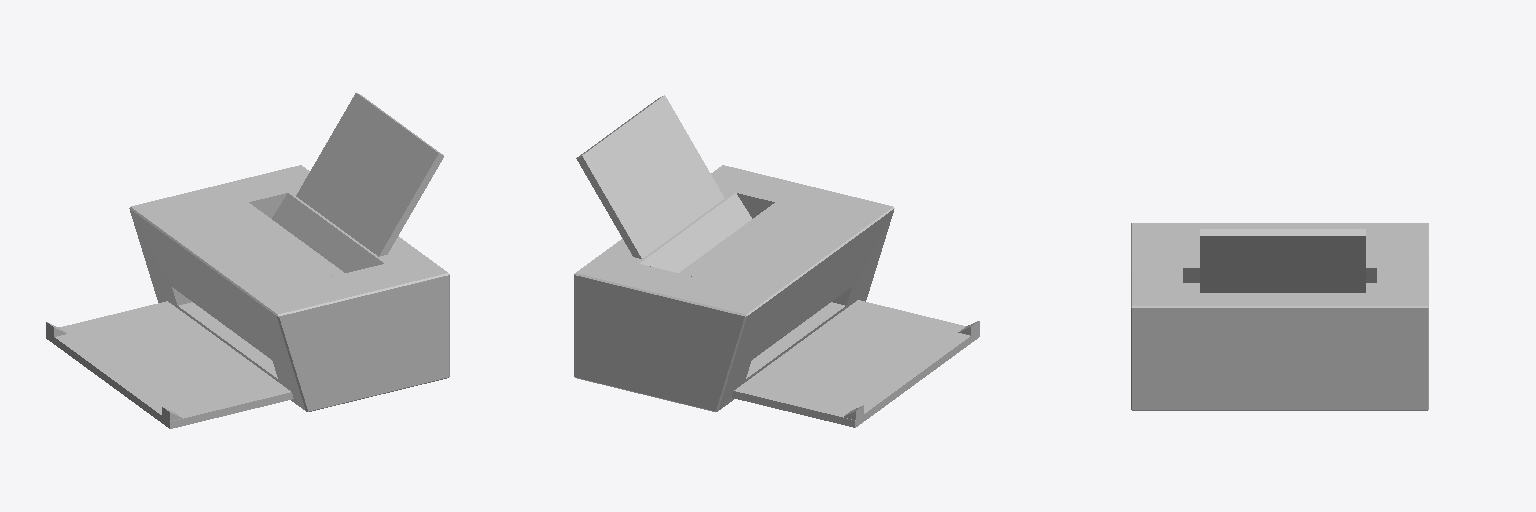
The model's file is Printer-Merged.obj.
3 views of the same model, side by side, from view 1: azimuth 30°, elevation 25°; view 2: azimuth 150°, elevation 25°; view 3: azimuth 270°, elevation 25° (orthographic).
Parts seen in each view (by area): view 1: Printer-Merged; view 2: Printer-Merged; view 3: Printer-Merged.
Part boxes in pixels (left/top/right/bottom): Printer-Merged: left=46, top=93, right=449, bottom=428; Printer-Merged: left=574, top=95, right=979, bottom=427; Printer-Merged: left=1131, top=223, right=1428, bottom=410.
Bounding box in the file's own units: 2.07 × 1.29 × 1.8.